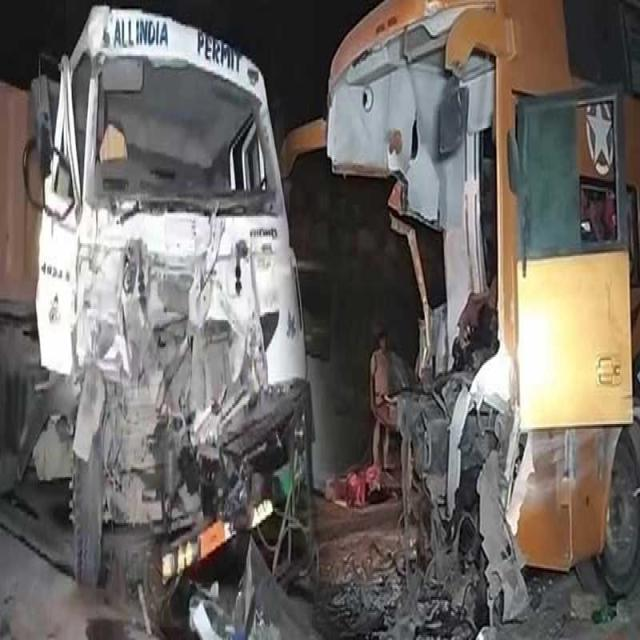accident: (282, 0, 640, 638), (0, 8, 311, 590)
